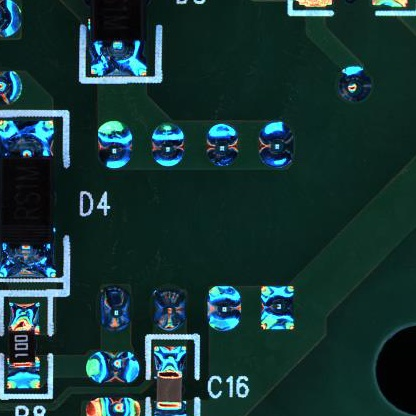spot: (94, 117, 136, 168), (255, 120, 296, 171), (82, 349, 140, 385), (205, 121, 243, 174), (258, 282, 296, 334), (205, 284, 245, 332), (331, 64, 374, 106), (150, 286, 187, 333), (97, 285, 133, 333), (150, 123, 187, 169), (84, 395, 144, 416)
